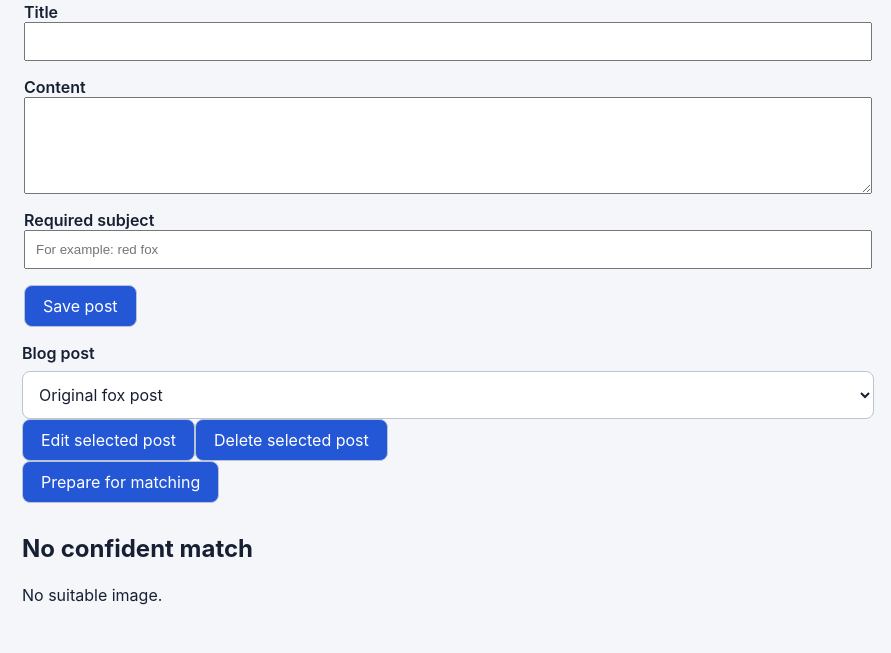
failed save keeps the editor open without refreshing the post
(page scrolled)
Expected: the heading "No confident match" is shown, x1=22 y1=534 x2=253 y2=563
Click the button "Edit selected post" at (108, 440), box x1=22 y1=419 x2=195 y2=461
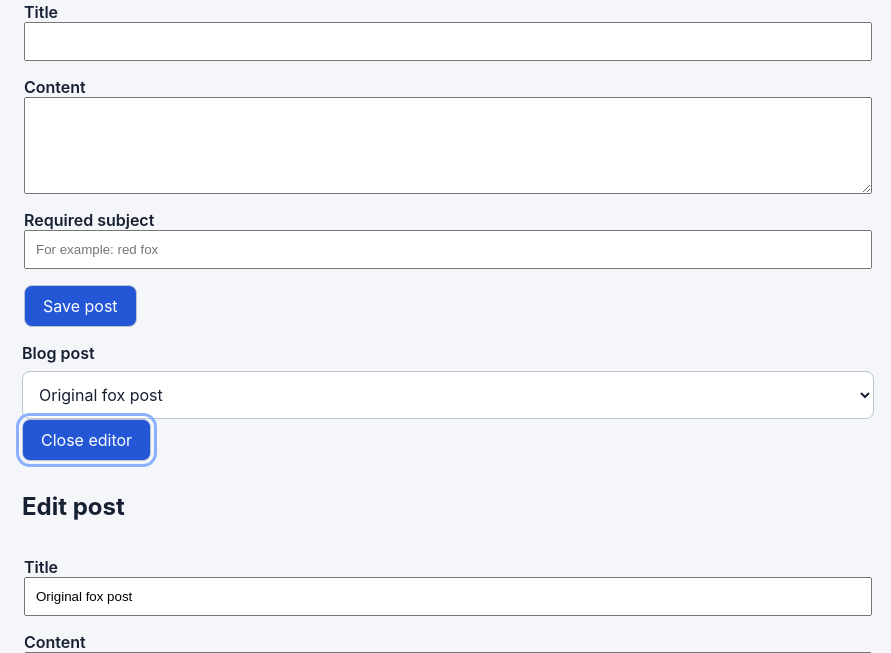
Replace the text in the field labelled "Title" below "Edit post" with "Unsaved title" at (448, 597), box x1=24 y1=577 x2=872 y2=616
(page scrolled)
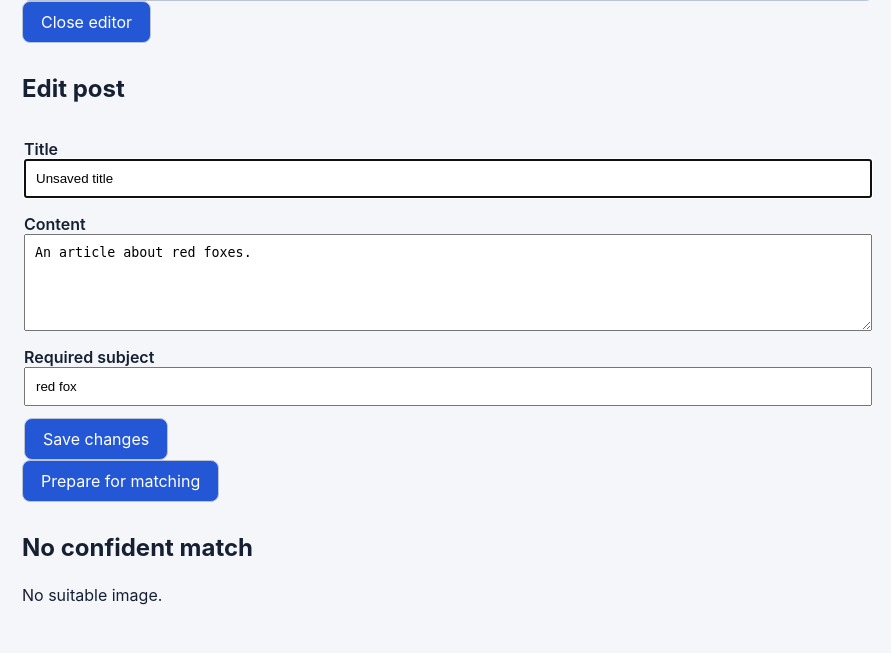
Click the button "Save changes" at (96, 439), box x1=24 y1=418 x2=168 y2=460
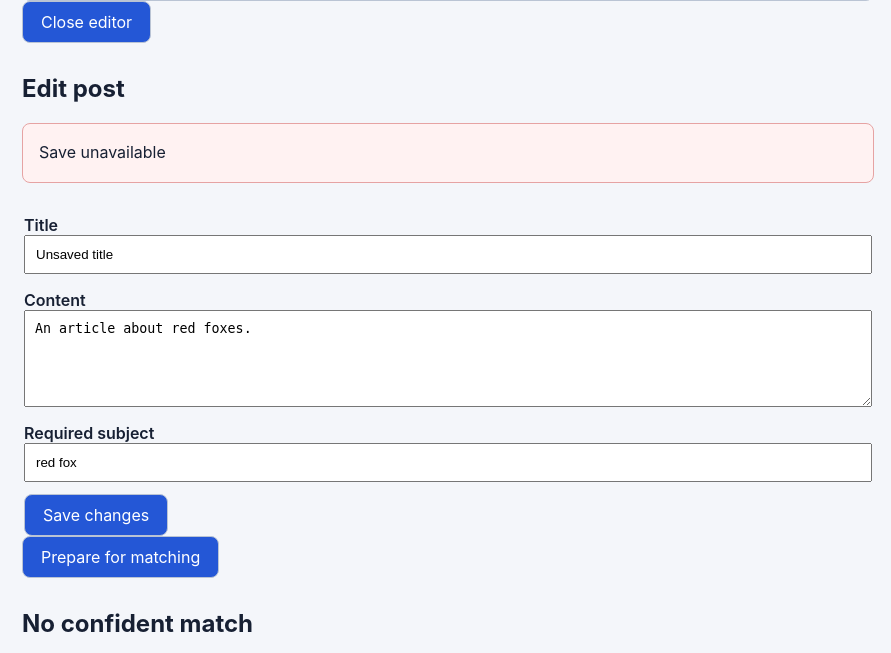
Result: the message reads "Save unavailable" at x1=39 y1=142 x2=166 y2=162
